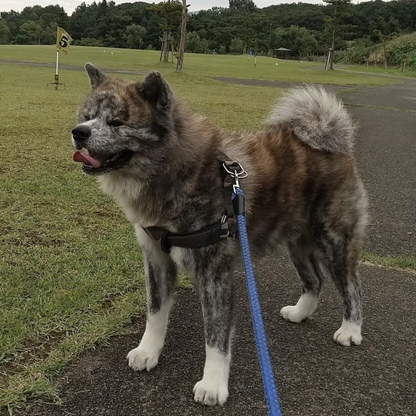akita: (57, 55, 379, 411)
